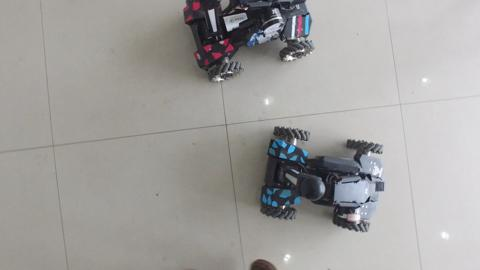chariot: (245, 125, 390, 233), (171, 1, 323, 84)
